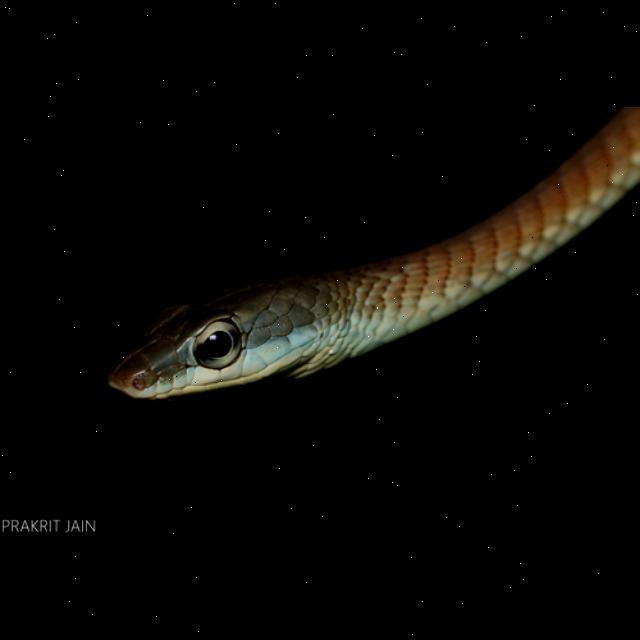snake: (104, 109, 640, 409)
